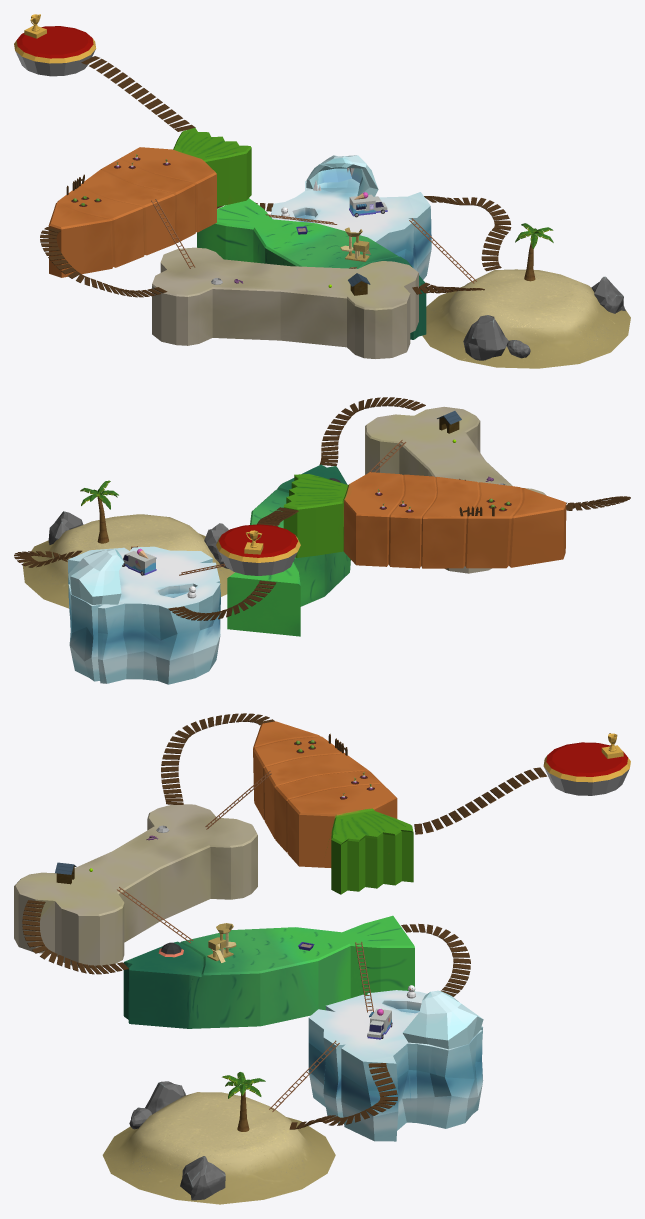
File: map.glb
The picture shows the model from 3 angles, top to bottom: view 1: azimuth 30°, elevation 25°; view 2: azimuth 150°, elevation 25°; view 3: azimuth 270°, elevation 25°; orthographic projection. The views are drawn at different scales.
Visible parts, largest first — view 1: Bone, Carrot, Island, Fish, Ice, WinIsland, Cave, Bridge.005, Bridge.001, Rock, Bridge.004, Rock3 (+3 smaller); view 2: Carrot, Ice, Bone, Fish, Island, WinIsland, Cave, Bridge.003, Bridge.002, Palm Tree, IcreamTruck, Bridge.001 (+4 smaller); view 3: Fish, Bone, Carrot, Ice, Island, WinIsland, Cave, Bridge.004, Bridge.003, Bridge.001, Bridge.005, Rock3 (+4 smaller).
Boxes of the visible parts, bbox=[...] form: Bone: bbox=[152, 247, 418, 358]; Carrot: bbox=[48, 128, 251, 277]; Island: bbox=[422, 269, 630, 368]; Fish: bbox=[197, 198, 426, 339]; Ice: bbox=[271, 178, 431, 279]; WinIsland: bbox=[14, 26, 96, 76]; Cave: bbox=[306, 155, 378, 196]; Bridge.005: bbox=[81, 56, 195, 131]; Bridge.001: bbox=[424, 196, 511, 271]; Rock: bbox=[463, 315, 508, 360]; Bridge.004: bbox=[40, 227, 167, 297]; Rock3: bbox=[591, 276, 625, 313]; Carrot: bbox=[283, 472, 566, 568]; Ice: bbox=[67, 546, 220, 684]; Bone: bbox=[365, 406, 546, 573]; Fish: bbox=[227, 464, 350, 636]; Island: bbox=[22, 514, 234, 608]; WinIsland: bbox=[216, 524, 300, 575]; Cave: bbox=[68, 549, 124, 604]; Bridge.003: bbox=[319, 397, 425, 466]; Bridge.002: bbox=[168, 580, 276, 620]; Palm Tree: bbox=[80, 480, 118, 543]; IcreamTruck: bbox=[122, 548, 156, 575]; Bridge.001: bbox=[14, 550, 82, 567]; Fish: bbox=[123, 915, 414, 1028]; Bone: bbox=[14, 804, 257, 967]; Carrot: bbox=[253, 721, 413, 894]; Ice: bbox=[308, 990, 483, 1141]; Island: bbox=[102, 1092, 335, 1204]; WinIsland: bbox=[543, 742, 630, 795]; Cave: bbox=[402, 990, 483, 1049]; Bridge.004: bbox=[161, 713, 274, 804]; Bridge.003: bbox=[22, 900, 129, 974]; Bridge.001: bbox=[289, 1063, 397, 1129]; Bridge.005: bbox=[414, 767, 546, 834]; Rock3: bbox=[180, 1156, 225, 1200].
Size of the model in its own units: 238 by 99.03 by 210.
32 materials, 19 textured.
